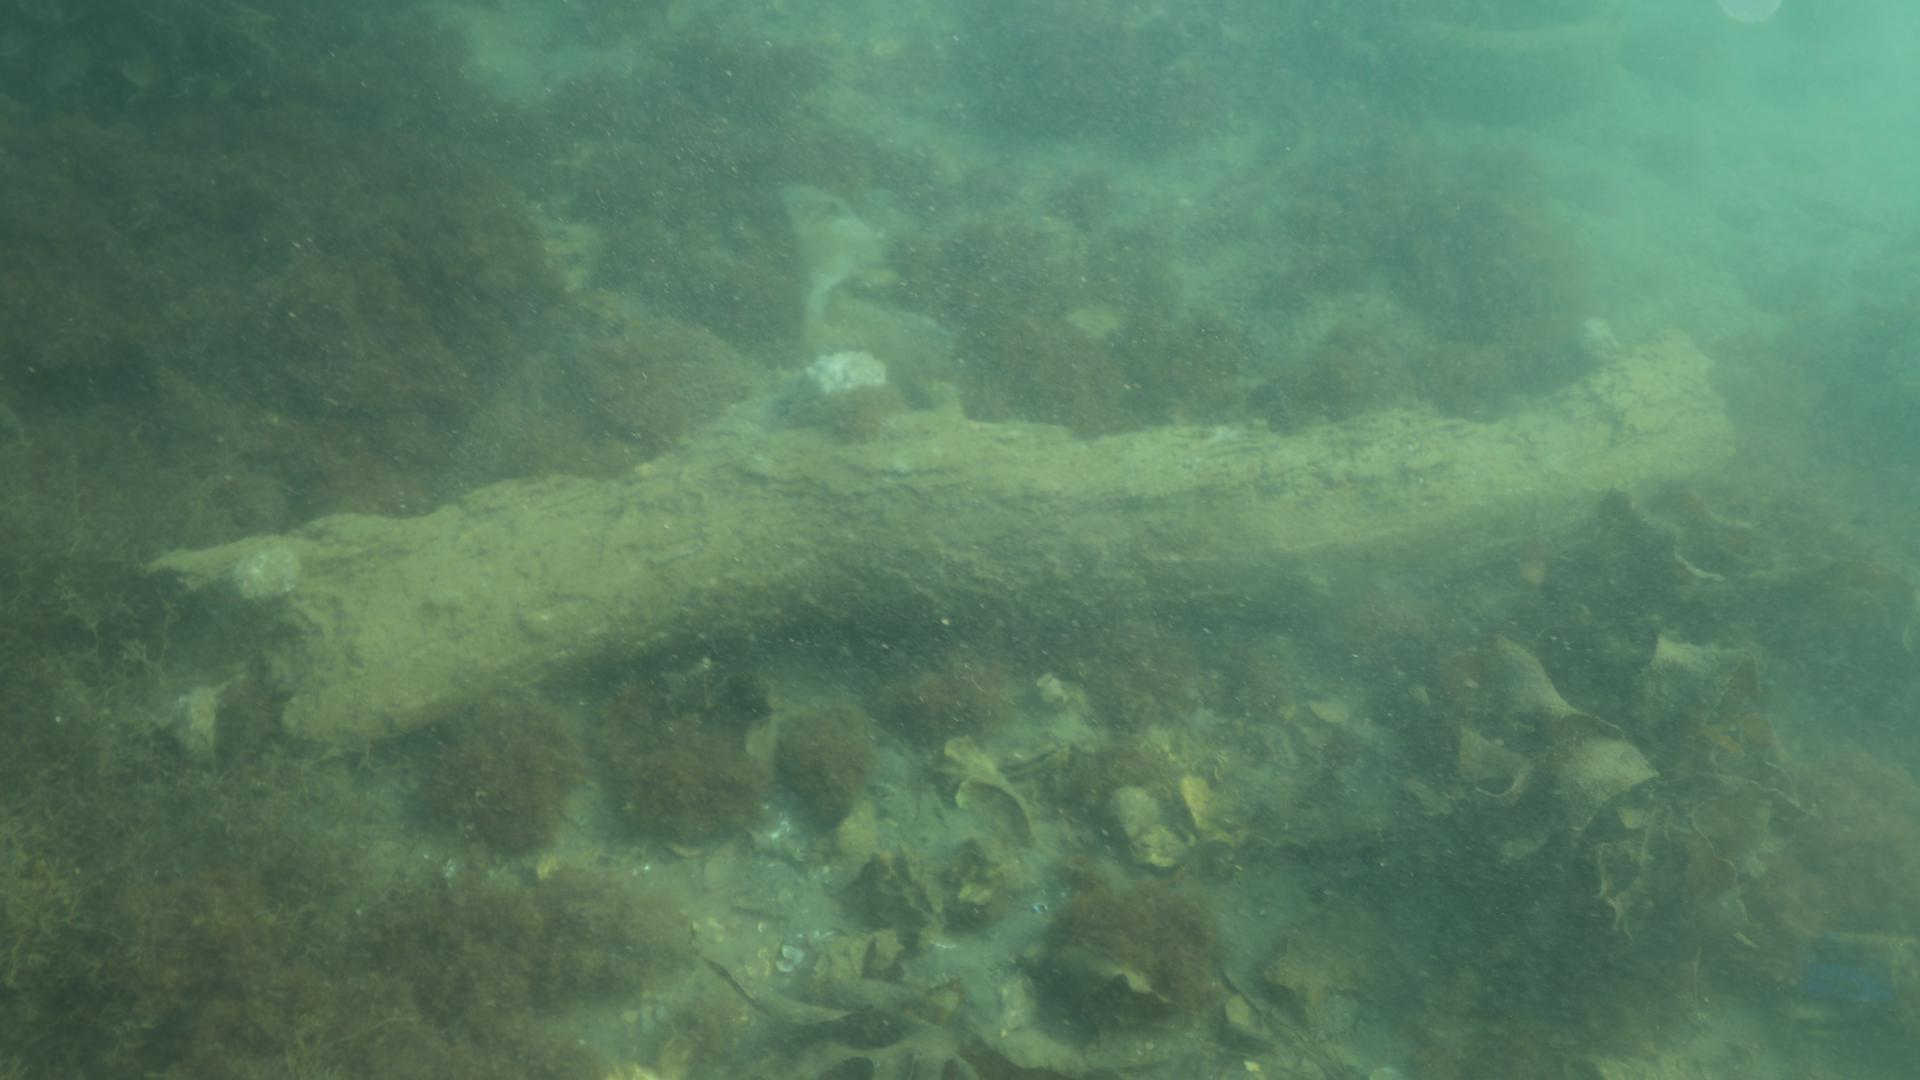tire: (1385, 0, 1619, 120)
wood: (146, 328, 1735, 744)
